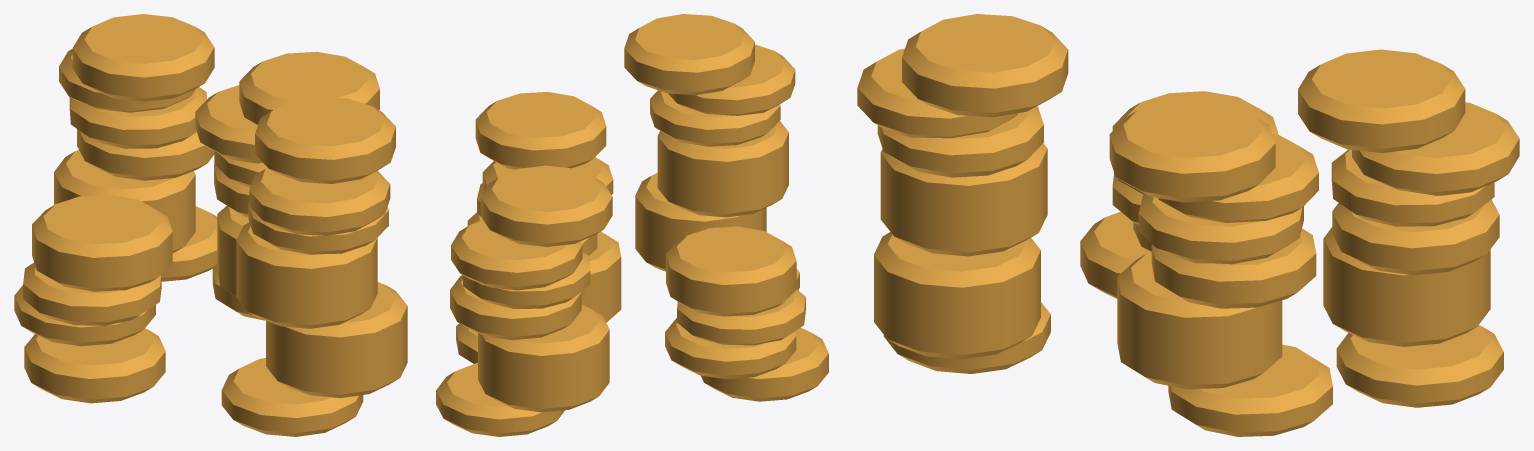
File: moedas-pilhas_polypizza_quaternius.glb
3 views of the same model, side by side, from view 1: azimuth 30°, elevation 25°; view 2: azimuth 150°, elevation 25°; view 3: azimuth 270°, elevation 25° (orthographic). The views are drawn at different scales.
Parts seen in each view (by area): view 1: Prop_Coins; view 2: Prop_Coins; view 3: Prop_Coins.
Boxes of the visible parts, left/top/right/bottom form: Prop_Coins: left=14, top=14, right=407, bottom=436; Prop_Coins: left=436, top=14, right=828, bottom=436; Prop_Coins: left=857, top=14, right=1519, bottom=436.
Bounding box in the file's own units: 0.4567 × 0.3439 × 0.6354.
Materials: 1 (1 with a texture image).
